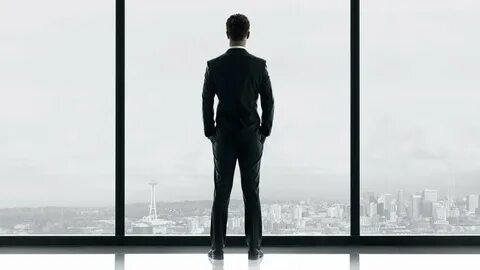awake: (201, 13, 274, 261)
